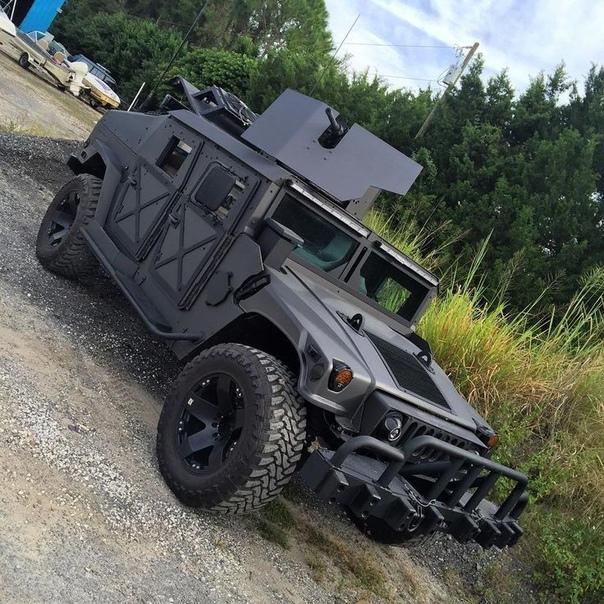armored_car: (34, 74, 529, 550)
